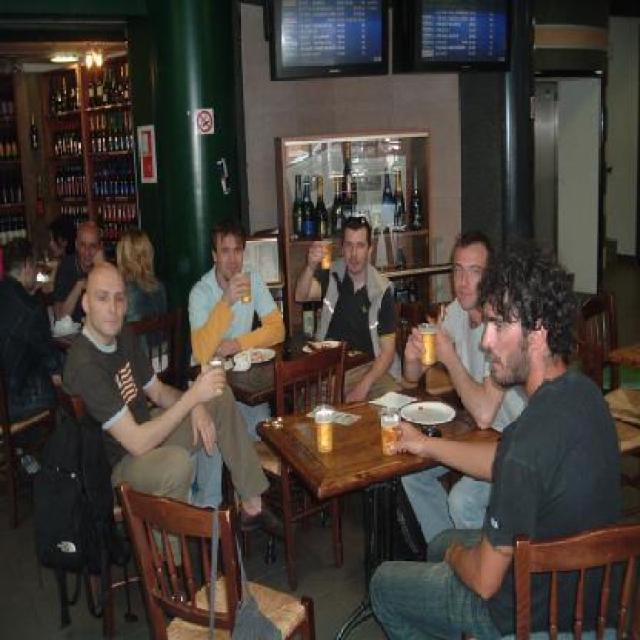smoking: (378, 408, 400, 456), (314, 405, 334, 453), (302, 174, 316, 240), (314, 176, 328, 239), (409, 168, 423, 230), (392, 170, 406, 232), (417, 323, 437, 365), (292, 176, 305, 237), (208, 358, 225, 393), (239, 271, 252, 304), (320, 239, 332, 270)
